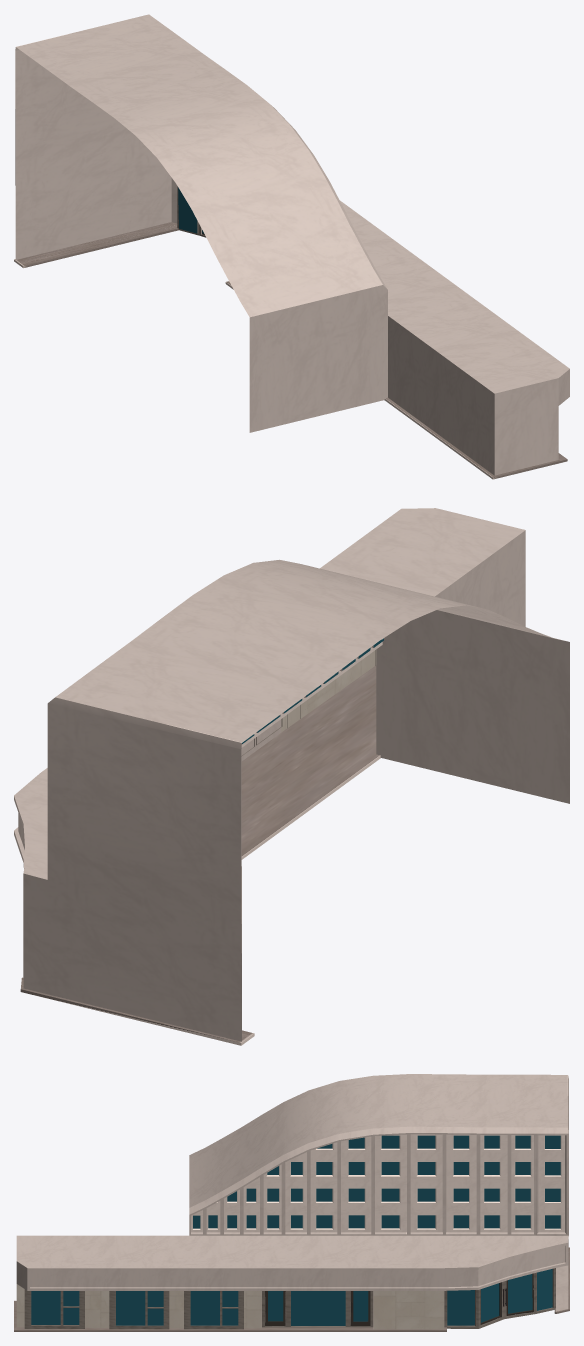
File: Bat_Joliette_1.1.fbx
The picture shows the model from 3 angles, top to bottom: view 1: azimuth 30°, elevation 25°; view 2: azimuth 150°, elevation 25°; view 3: azimuth 270°, elevation 25°; orthographic projection. The views are drawn at different scales.
Parts seen in each view (by area): view 1: Bat_Joliette_1.1; view 2: Bat_Joliette_1.1; view 3: Bat_Joliette_1.1.
Boxes of the visible parts, left/top/right/bottom form: Bat_Joliette_1.1: left=14, top=14, right=569, bottom=479; Bat_Joliette_1.1: left=14, top=508, right=569, bottom=1045; Bat_Joliette_1.1: left=14, top=1074, right=569, bottom=1331.
Size of the model in its own units: 1665 by 1557 by 4481.
